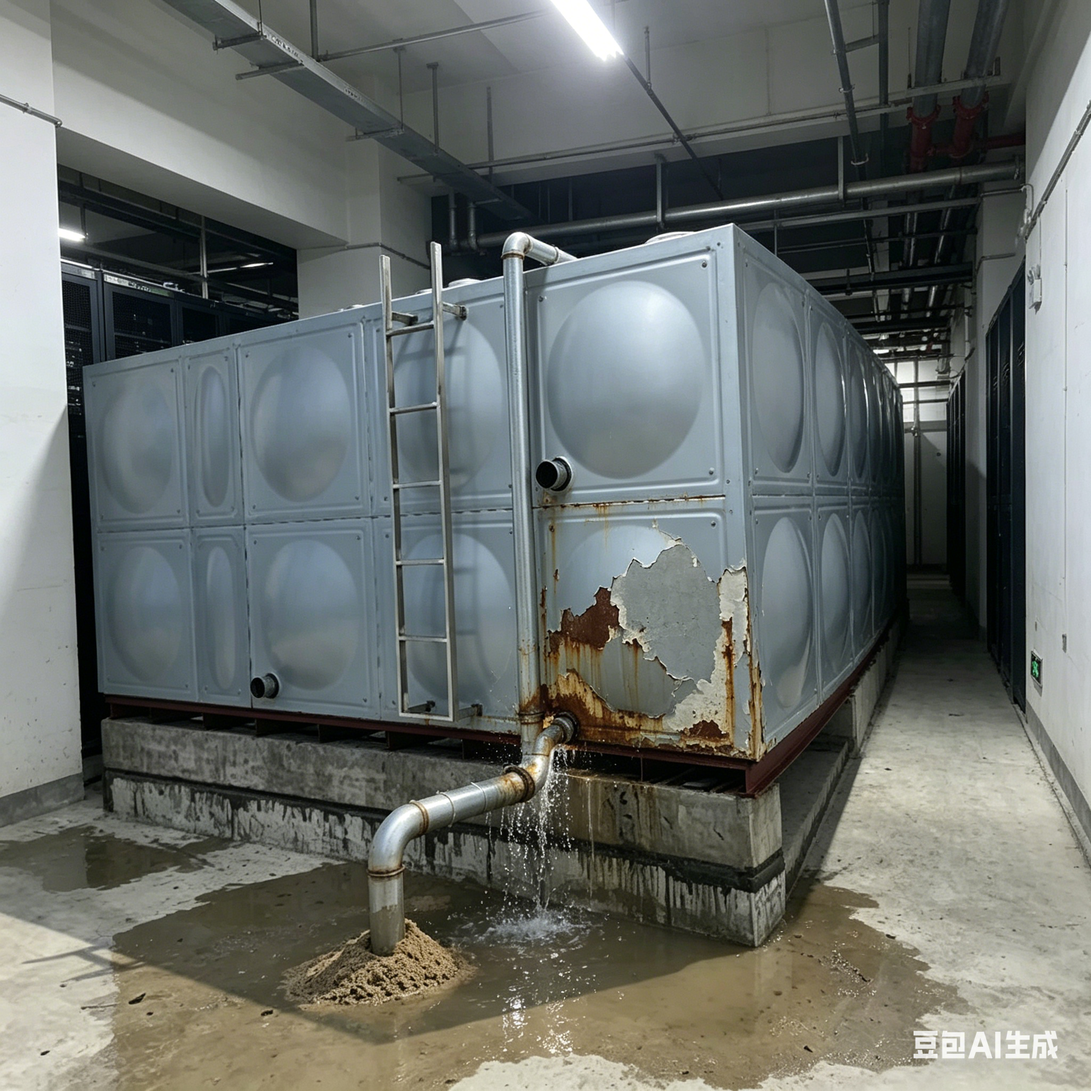Leakage: (124, 925, 479, 1091), (630, 906, 927, 1091), (485, 694, 616, 1047), (223, 860, 483, 931), (18, 824, 160, 880)
